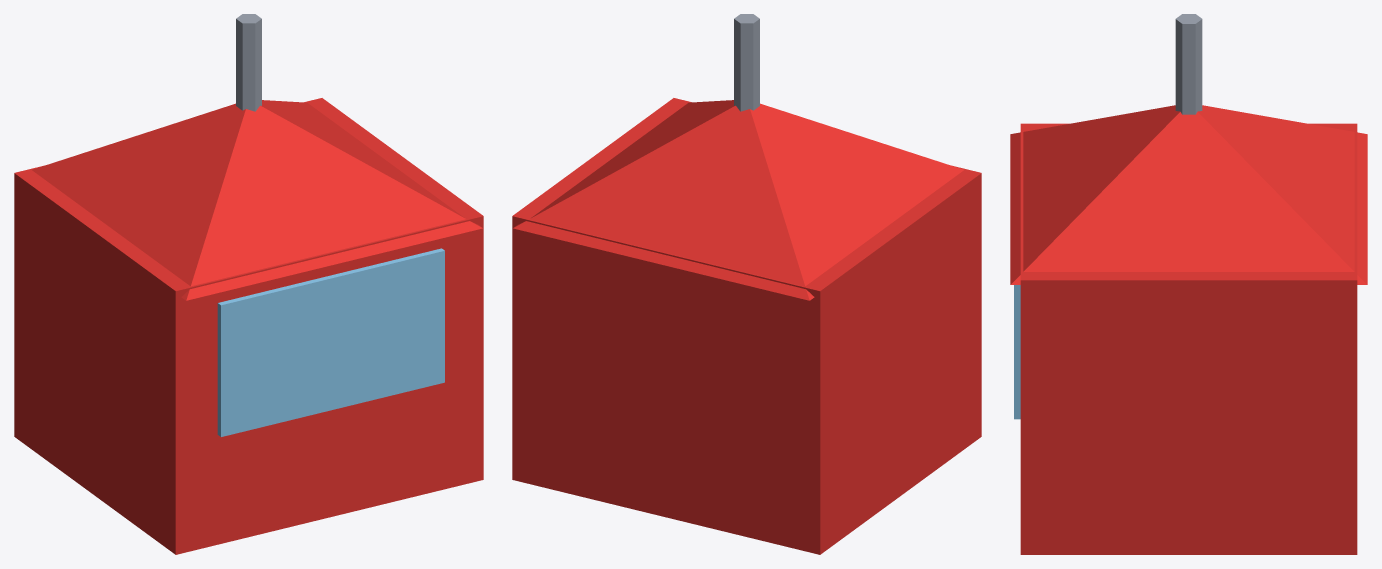
File: ferris_cabin.glb
3 views of the same model, side by side, from view 1: azimuth 30°, elevation 25°; view 2: azimuth 150°, elevation 25°; view 3: azimuth 270°, elevation 25° (orthographic). The views are drawn at different scales.
Visible parts, largest first — view 1: ferris_cabin; view 2: ferris_cabin; view 3: ferris_cabin.
Part boxes in pixels (box(x1,y1,x2,y2)): ferris_cabin: box(14, 14, 483, 554); ferris_cabin: box(512, 14, 981, 554); ferris_cabin: box(1010, 14, 1367, 554).
Bounding box in the file's own units: 1.1 × 1.5 × 1.06.
